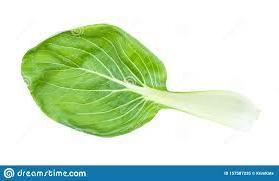Healthy-Pechay: (14, 16, 266, 136)
